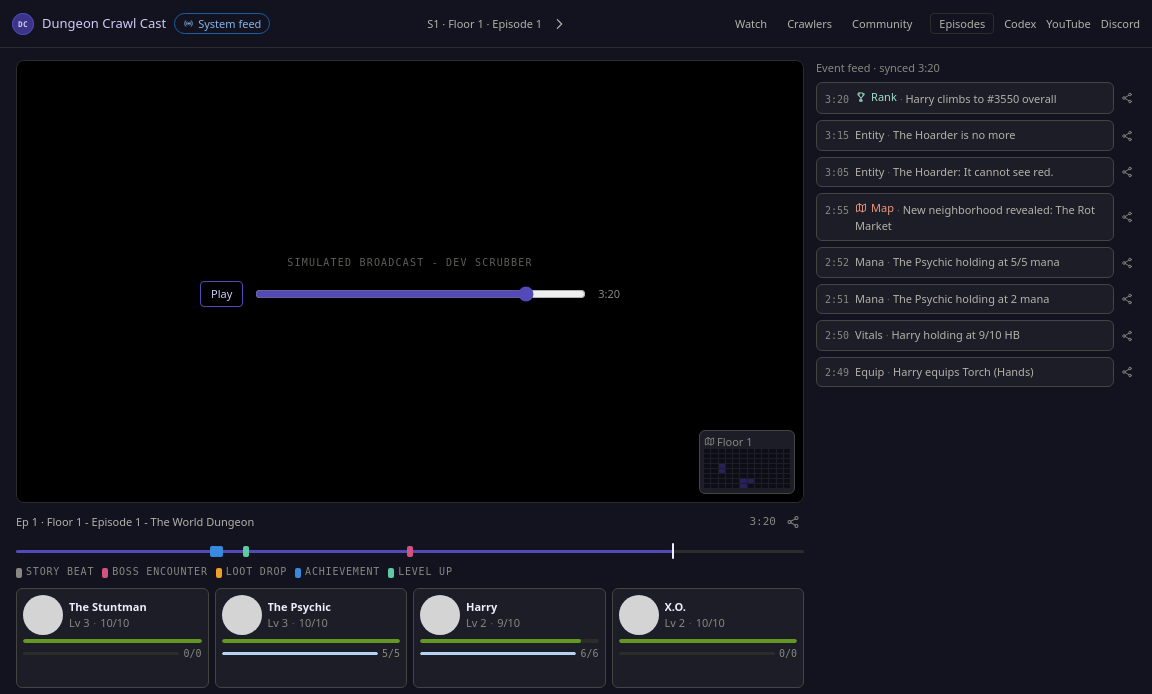
Test: EpisodePage › opens a crawler glance card in the rail and hides the feed
Expected: the element with test id "fake-stage" is shown, [17,61,803,502]
Click the button with test id "crawler-frame" showing "Harry Lv 2 · 9/10 6/6". click: (509, 638)
box: [413,588,606,688]
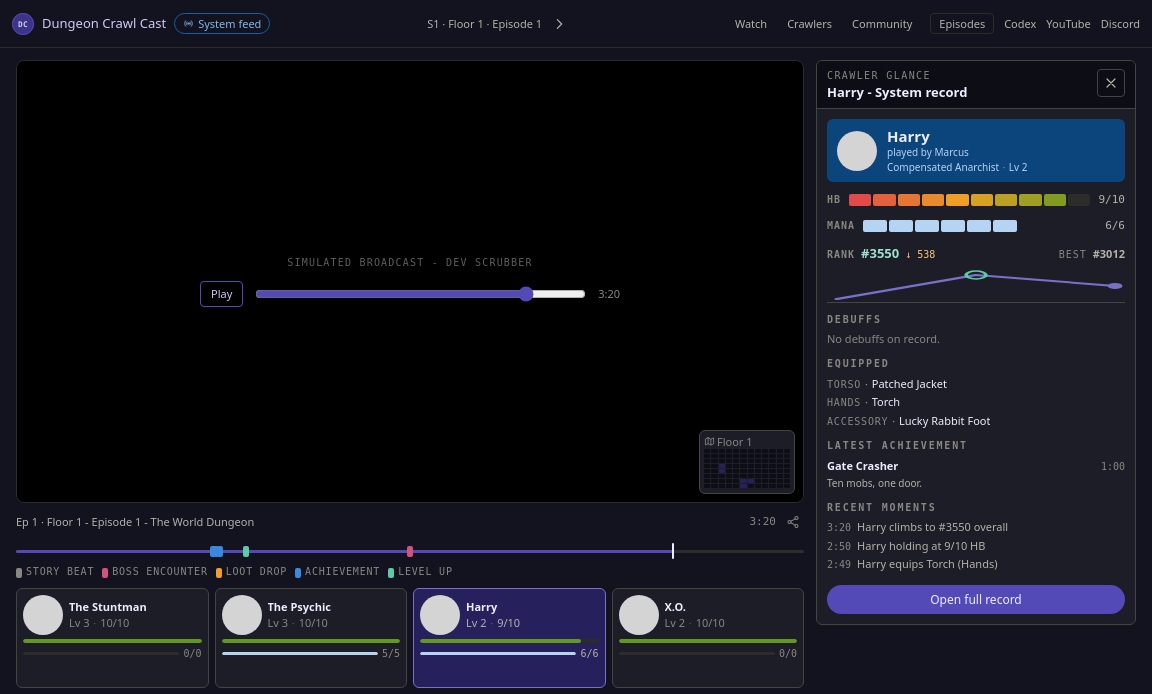
Expected: the list with test id "feed-items" is gone
Expected: the list item with test id "glance-equipped-row" shows "Torch", [872,394,900,409]
Expected: the text "Gate Crasher" is shown, [827,458,898,474]
